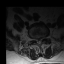CCS_normal: (38, 37, 40, 45)
LFS_stenosis: (42, 36, 44, 41)
LLS_normal: (40, 37, 42, 43)
RFS_stenosis: (34, 37, 36, 42)
RLS_normal: (36, 37, 38, 43)
